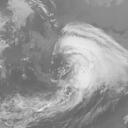cyclone: (48, 33, 107, 95)
